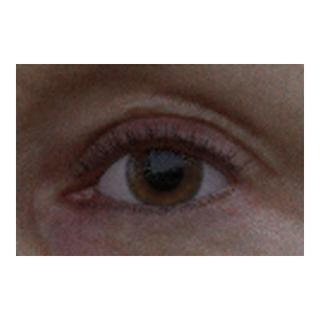pupil: (145, 153, 183, 191)
